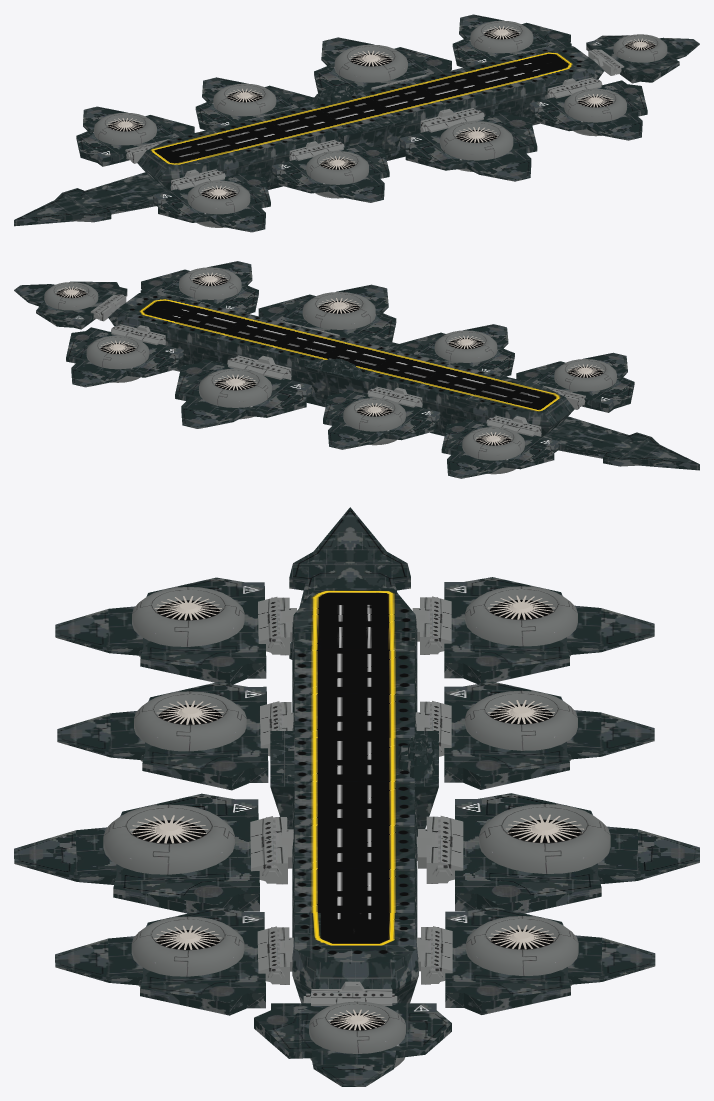
File: sky-cruiser-detail.glb
The picture shows the model from 3 angles, top to bottom: view 1: azimuth 30°, elevation 25°; view 2: azimuth 150°, elevation 25°; view 3: azimuth 270°, elevation 25°; orthographic projection. The views are drawn at different scales.
Parts seen in each view (by area): view 1: sky-cruiser; view 2: sky-cruiser; view 3: sky-cruiser.
Boxes of the visible parts, left/top/right/bottom form: sky-cruiser: left=14, top=14, right=699, bottom=232; sky-cruiser: left=14, top=261, right=699, bottom=478; sky-cruiser: left=14, top=507, right=699, bottom=1086.
Bounding box in the file's own units: 60 × 4.83 × 29.06.
1 material, 1 textured.
